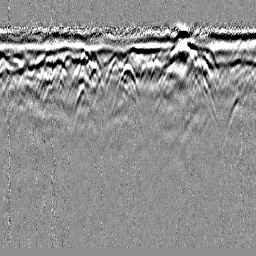cavity: (111, 62, 141, 113)
